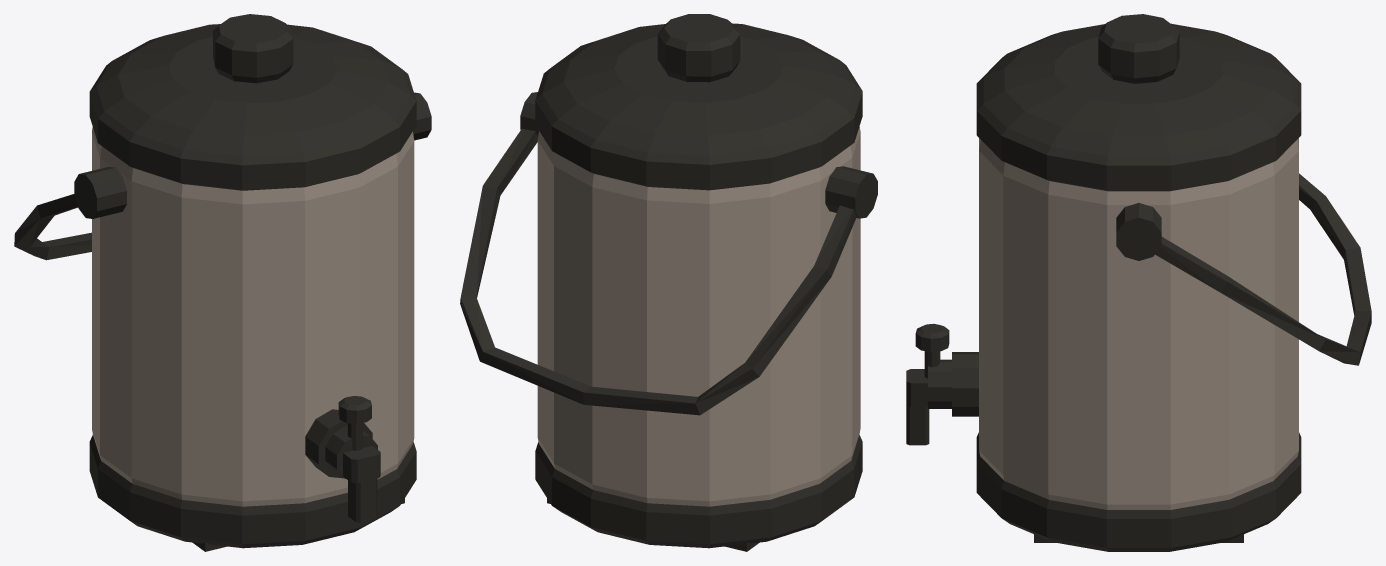
Rendered from SM_Cook_TeaUrn_01.fbx.
The picture shows the model from 3 angles, left to right: view 1: azimuth 30°, elevation 25°; view 2: azimuth 150°, elevation 25°; view 3: azimuth 270°, elevation 25°; orthographic projection.
Parts seen in each view (by area): view 1: SM_Cook_TeaUrn_01; view 2: SM_Cook_TeaUrn_01; view 3: SM_Cook_TeaUrn_01.
Part boxes in pixels (x1,y1,x2,y2): SM_Cook_TeaUrn_01: (14, 14, 431, 551); SM_Cook_TeaUrn_01: (460, 14, 877, 551); SM_Cook_TeaUrn_01: (906, 14, 1371, 551).
Bounding box in the file's own units: 0.3525 × 0.45 × 0.408.
1 material, 1 textured.
